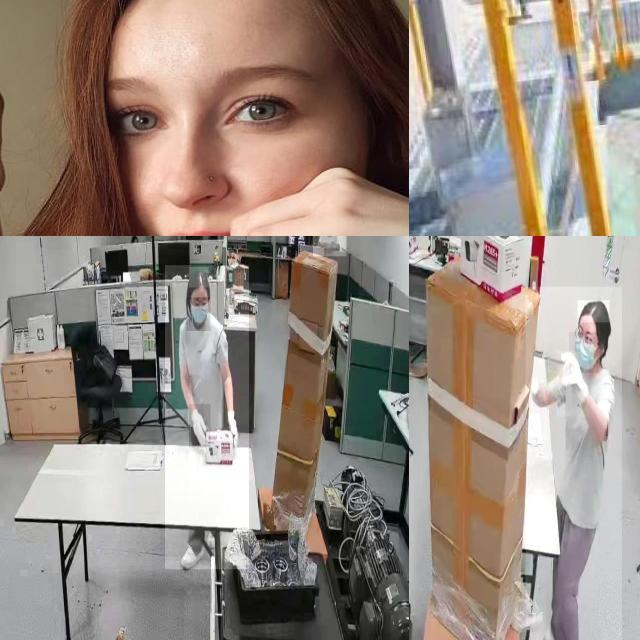face_mask: (569, 332, 598, 373), (187, 297, 210, 331)
hand_glove: (557, 351, 589, 416), (189, 404, 211, 448), (221, 404, 241, 448)
head_nohelmet: (578, 300, 610, 323), (189, 267, 209, 288)
person: (525, 286, 622, 640), (165, 265, 249, 570), (313, 236, 347, 257)
shoes: (181, 531, 208, 574), (541, 607, 562, 640)
